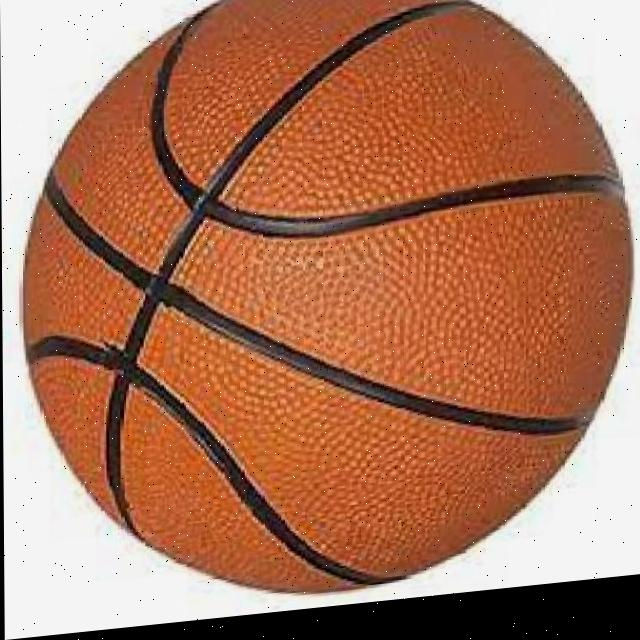Basketball: (21, 0, 633, 625)
